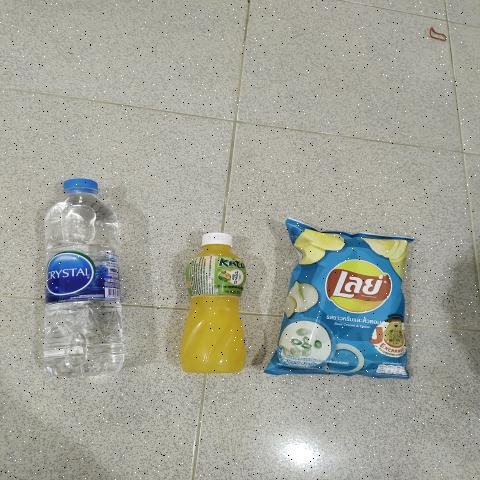crystal: (57, 186, 116, 370)
lay_blue: (282, 239, 405, 368)
